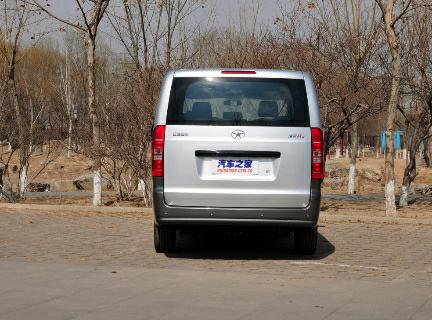江淮-瑞风M4: (147, 60, 330, 258)
